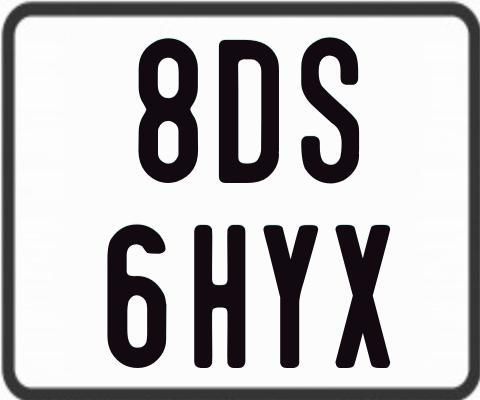6: (106, 224, 166, 368)
8: (138, 36, 198, 187)
D: (218, 38, 282, 183)
H: (193, 225, 248, 369)
S: (298, 35, 361, 181)
X: (335, 225, 390, 368)
Y: (263, 223, 318, 368)
